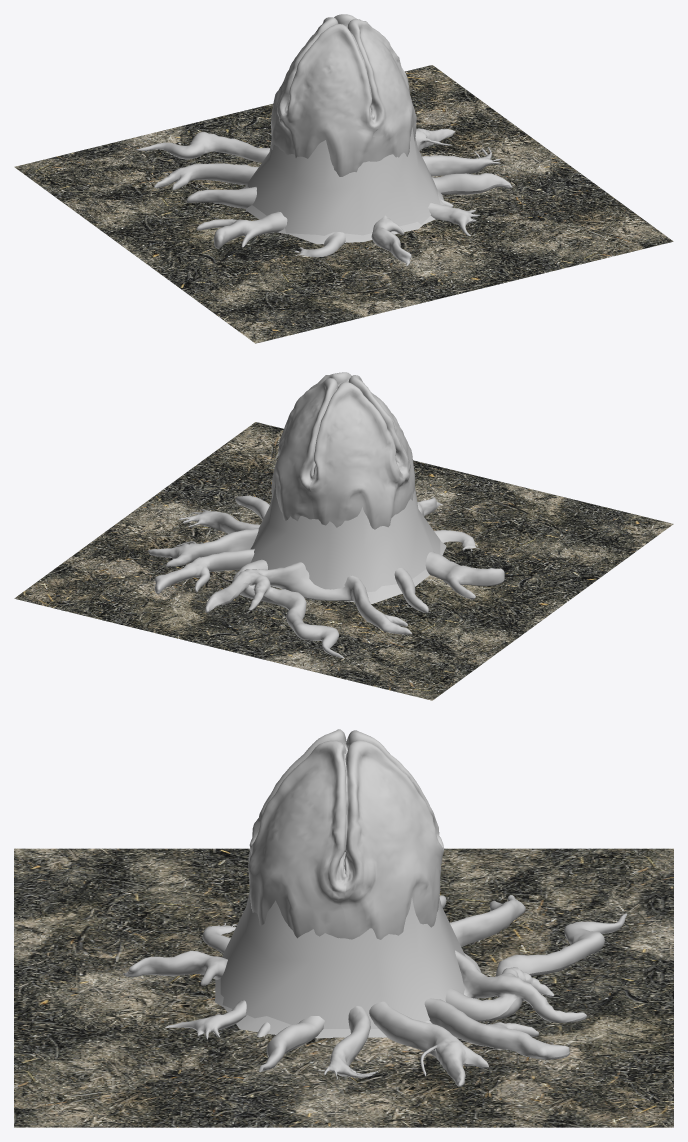
The model's file is aliengeggFULL.fbx.
The picture shows the model from 3 angles, top to bottom: view 1: azimuth 30°, elevation 25°; view 2: azimuth 150°, elevation 25°; view 3: azimuth 270°, elevation 25°; orthographic projection. The views are drawn at different scales.
Visible parts, largest first — view 1: Group43410, Group59158, Group35463, Group64277, Group13752, Group44234, Group57259, Group44292; view 2: Group43410, Group35463, Group59158, Group44234, Group12847, Group64277, Group44292, Group57259; view 3: Group43410, Group35463, Group59158, Group12847, Group13752, Group57259, Group44292, Group64277, Group44234.
Part boxes in pixels (x1,y1,x2,y2): Group43410: (14, 65, 673, 343); Group59158: (247, 127, 440, 235); Group35463: (137, 128, 512, 263); Group64277: (280, 24, 377, 176); Group13752: (347, 18, 416, 161); Group44234: (271, 17, 338, 150); Group57259: (242, 185, 444, 244); Group44292: (137, 132, 511, 265); Group43410: (14, 422, 673, 700); Group35463: (147, 495, 504, 658); Group59158: (250, 482, 440, 592); Group44234: (308, 382, 404, 529); Group12847: (271, 378, 338, 521); Group64277: (348, 375, 414, 511); Group44292: (149, 502, 503, 658); Group57259: (271, 541, 446, 603); Group43410: (14, 848, 673, 1127); Group35463: (125, 895, 626, 1085); Group59158: (220, 892, 465, 1028); Group12847: (340, 740, 443, 939); Group13752: (248, 740, 346, 938); Group57259: (215, 978, 432, 1038); Group44292: (123, 928, 620, 1086); Group64277: (248, 729, 347, 860); Group44234: (346, 730, 443, 848).
Size of the model in its own units: 1.58 by 0.71 by 1.58.
